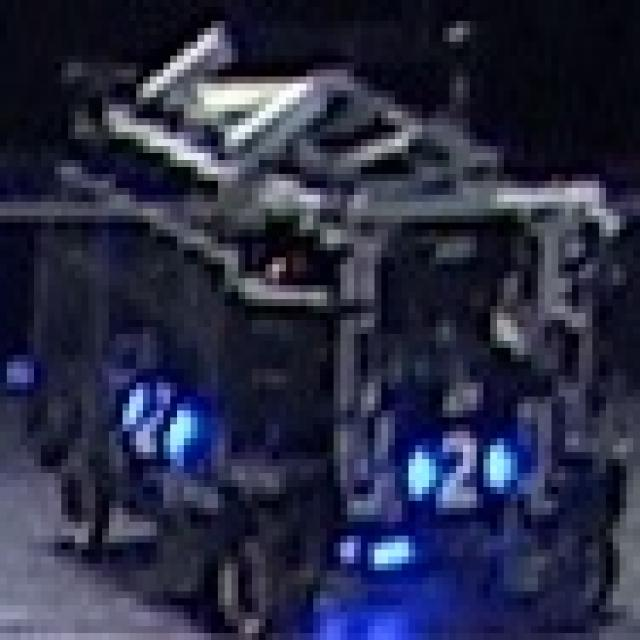B2: (402, 424, 511, 508), (116, 376, 197, 473)
